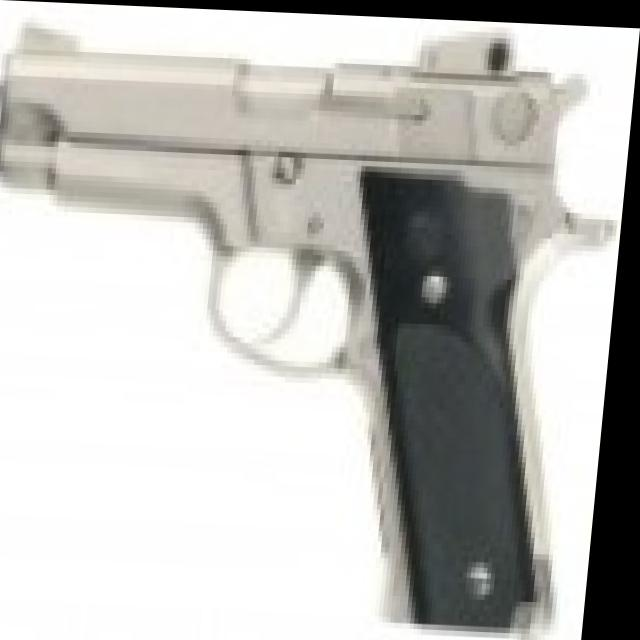handgun: (0, 1, 620, 619)
